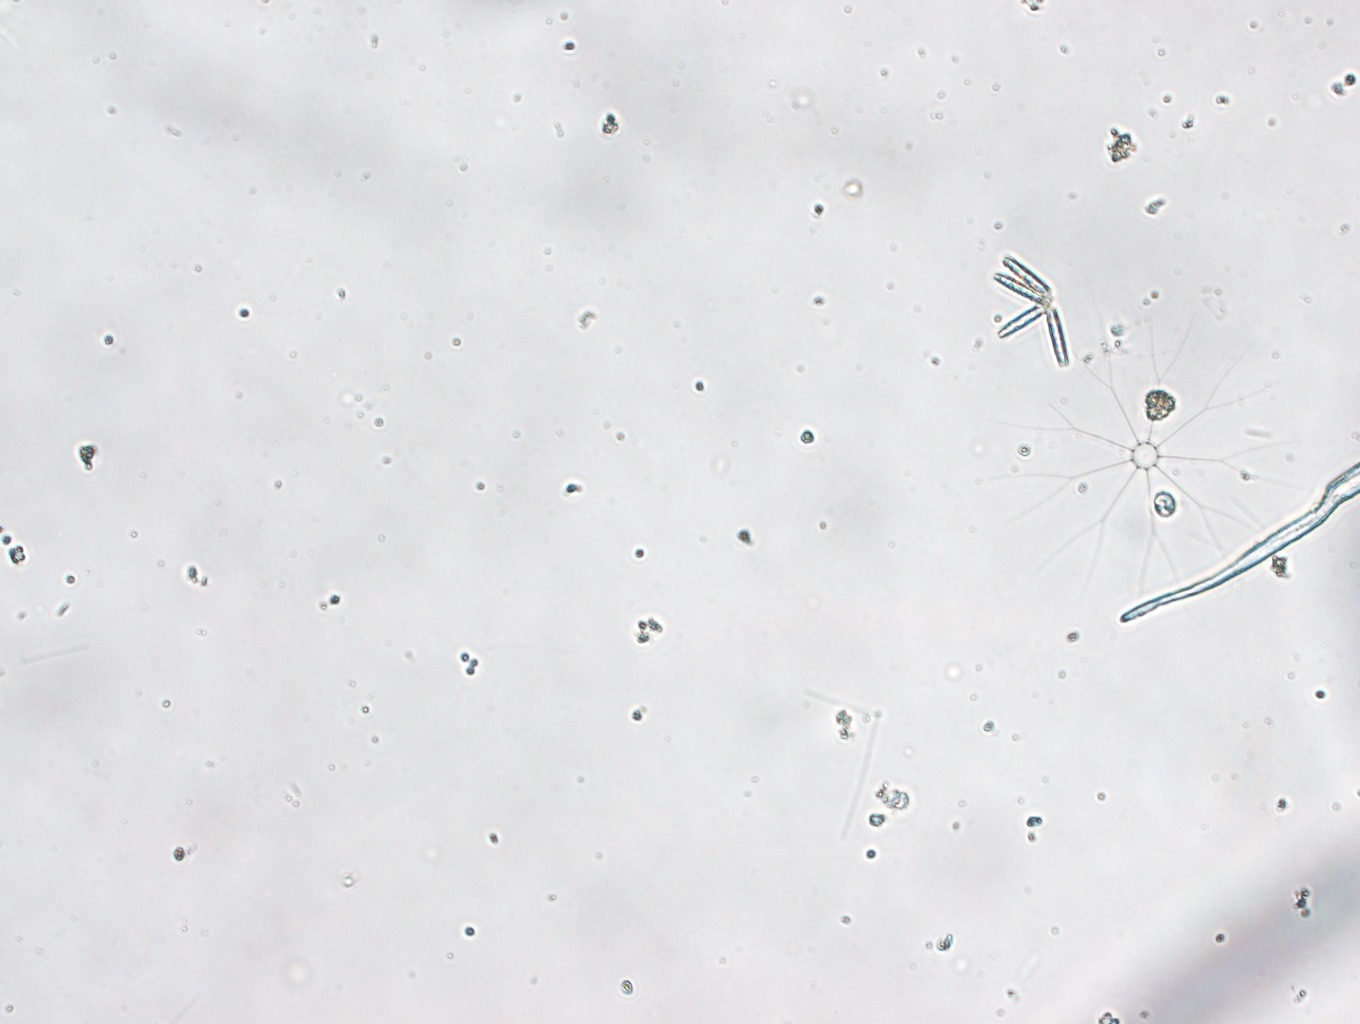bacteriastrum: (1007, 328, 1270, 591)
thalassionema frauenfeldii: (985, 244, 1086, 367)
